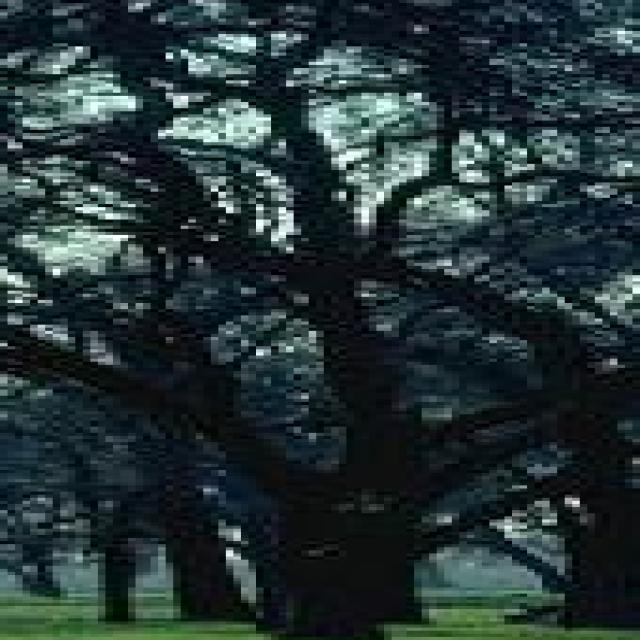nofire: (4, 0, 640, 639)
